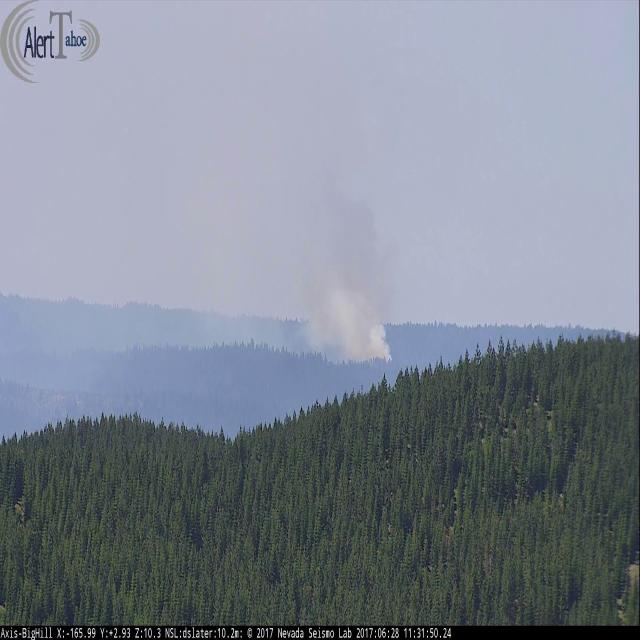smoke: (264, 94, 403, 373)
